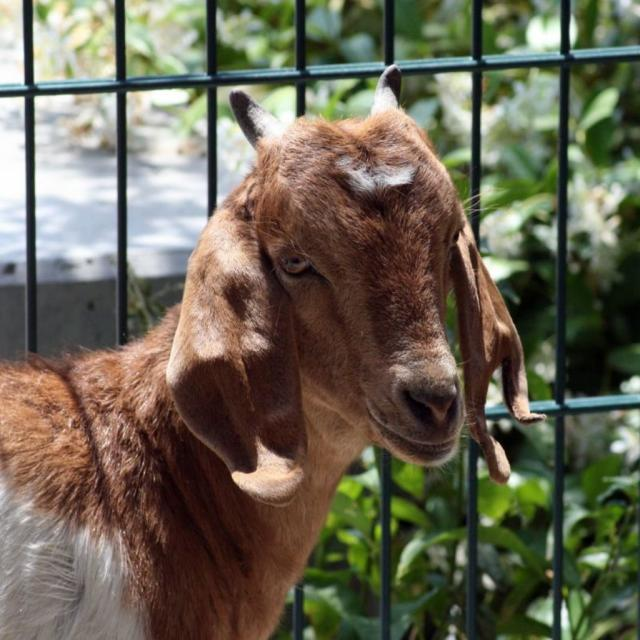Goat: (1, 63, 548, 637)
